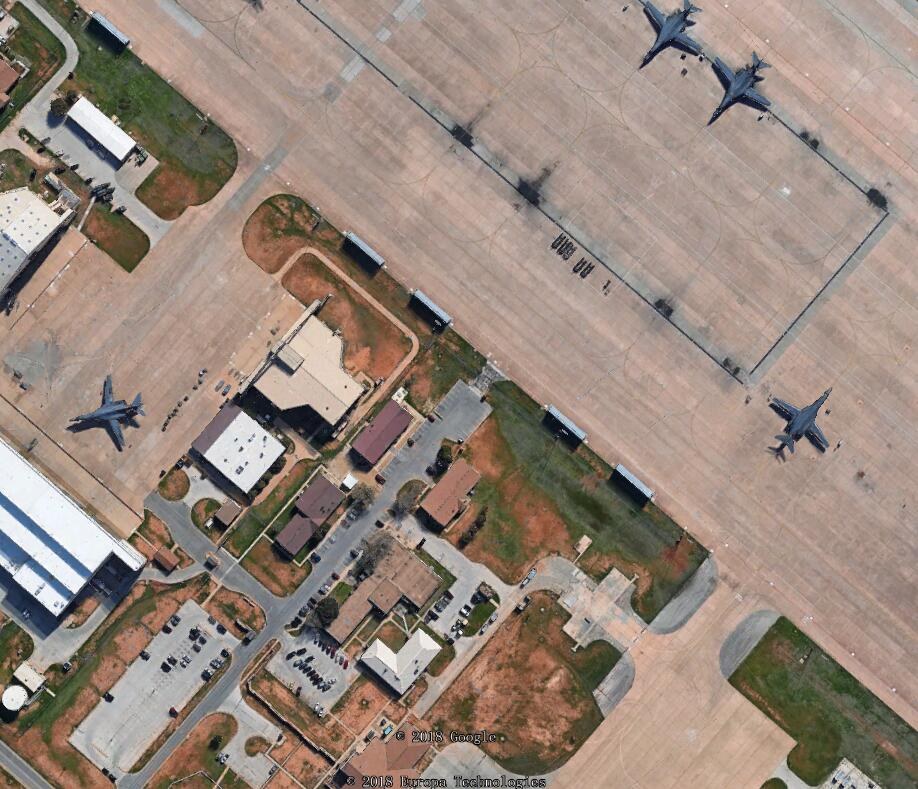A10: (63, 372, 151, 457), (763, 383, 837, 464), (709, 42, 775, 126), (636, 1, 706, 70)
